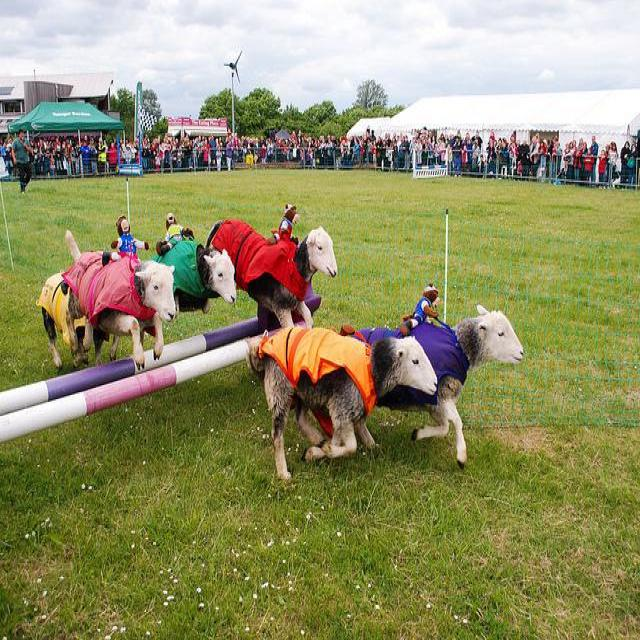Sheep: (255, 328, 437, 479), (376, 302, 526, 468), (41, 230, 175, 371), (205, 220, 338, 329), (157, 242, 238, 315)
